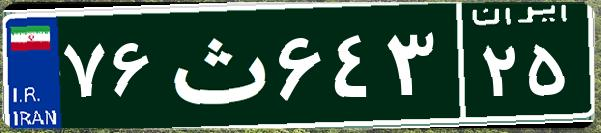2: (475, 38, 525, 113)
3: (385, 28, 445, 110)
4: (330, 28, 385, 110)
5: (525, 38, 570, 115)
6: (273, 28, 330, 110), (110, 28, 158, 105)
7: (57, 26, 110, 107)
ث: (158, 15, 273, 115)
